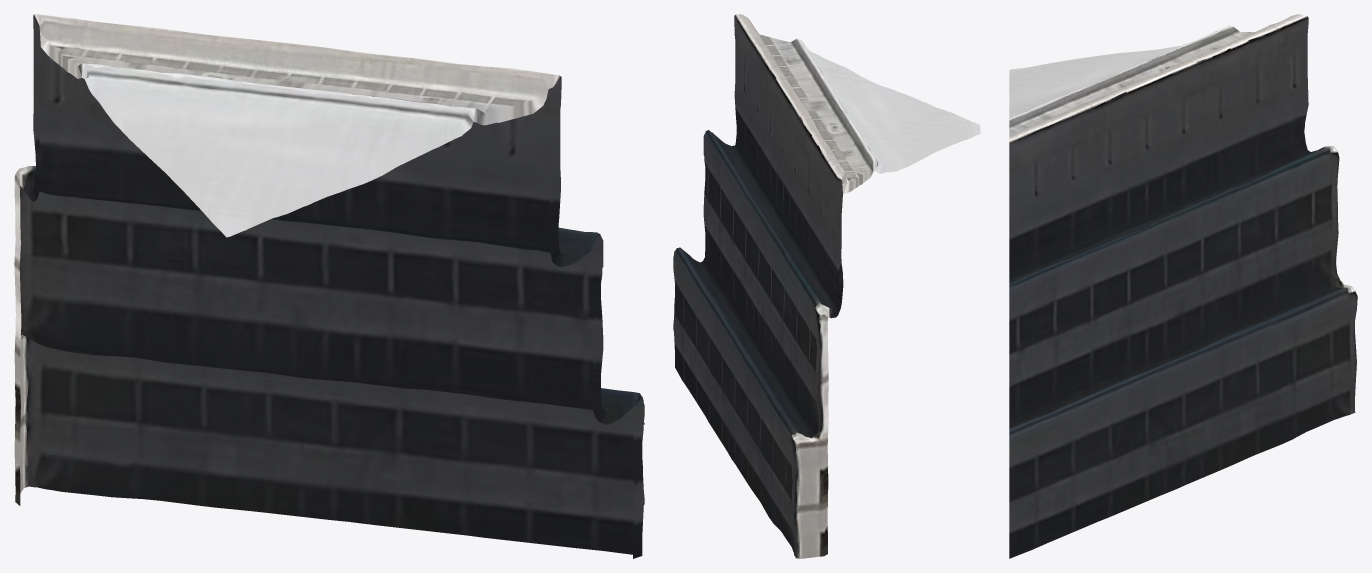
The model's file is z20-167783-405229-h1-yup-uvflip-v3-world.glb.
3 views of the same model, side by side, from view 1: azimuth 30°, elevation 25°; view 2: azimuth 150°, elevation 25°; view 3: azimuth 270°, elevation 25° (orthographic). The views are drawn at different scales.
Size of the model in its own units: 21.8 by 25.16 by 20.4.
1 material, 1 textured.
